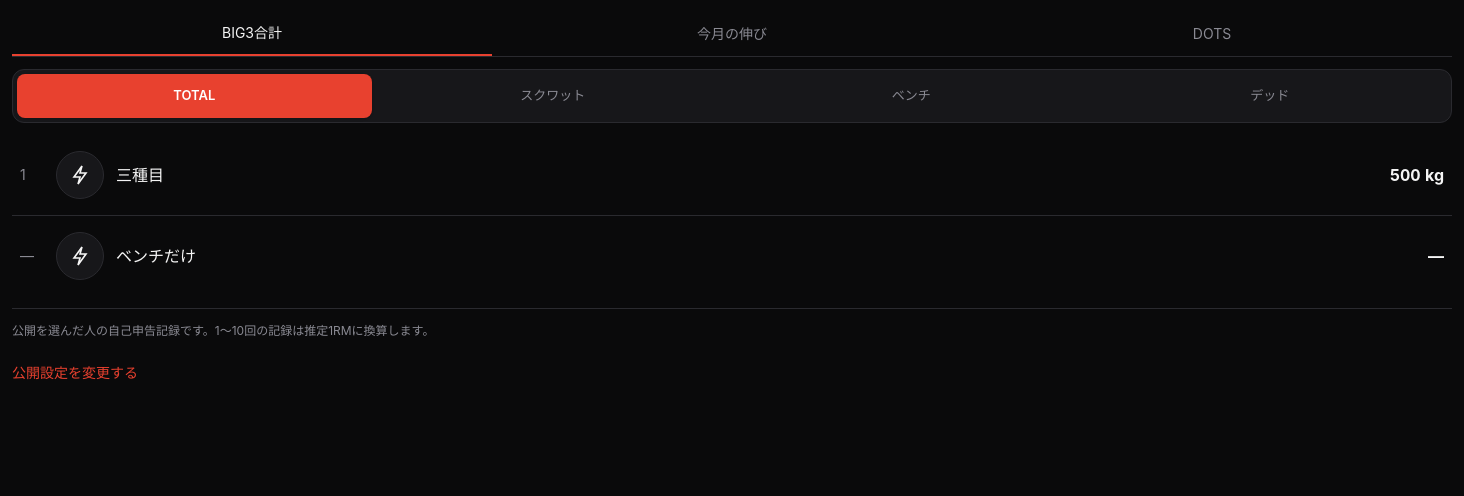
Test: ranks a single lift under the kg total, including members without all three lifts
Expected: the list is shown, [12, 135, 1452, 296]
Click the button "ベンチ" at (911, 96), box [734, 74, 1088, 118]
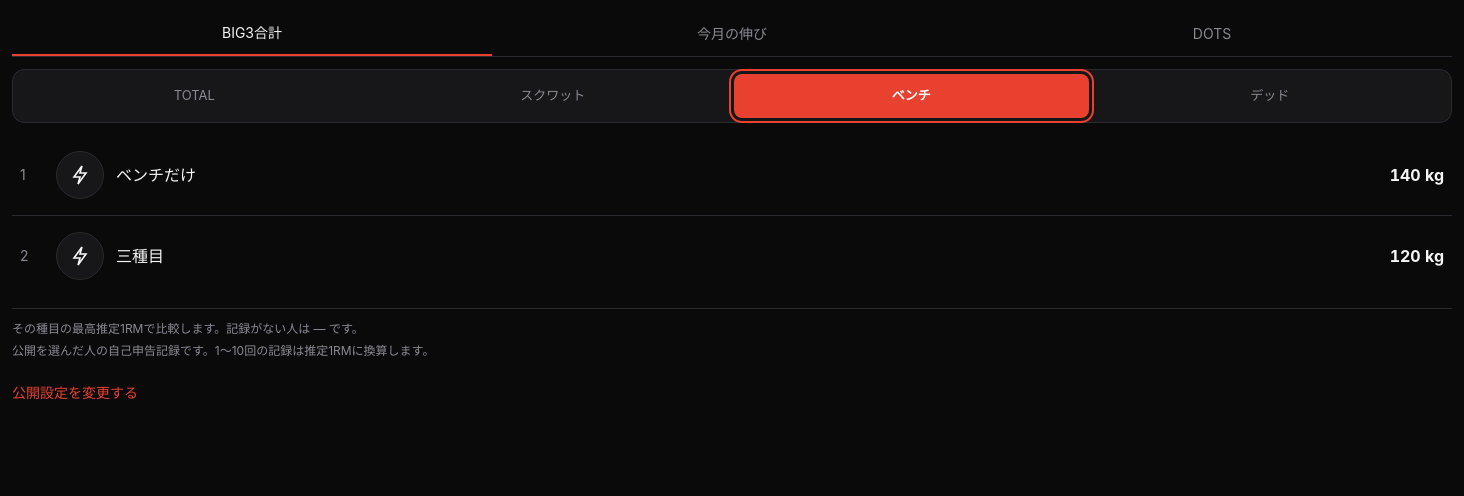
Expected: the list items read "1ベンチだけ140 kg", "2三種目120 kg", in this order, [12, 135, 1452, 216]; [12, 216, 1452, 296]
Click the button "スクワット" at (553, 96), box [376, 74, 730, 118]
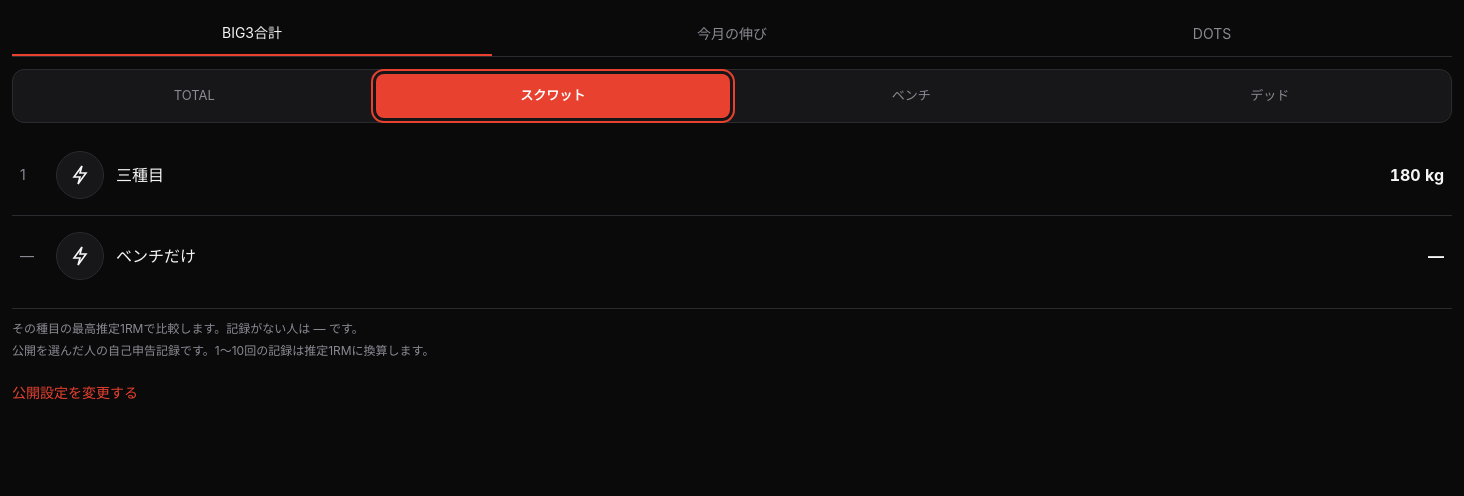
Expected: the list items read "1三種目180 kg", "—ベンチだけ—", in this order, [12, 135, 1452, 216]; [12, 216, 1452, 296]
Click the button "DOTS" at (1212, 34), box [972, 12, 1452, 56]
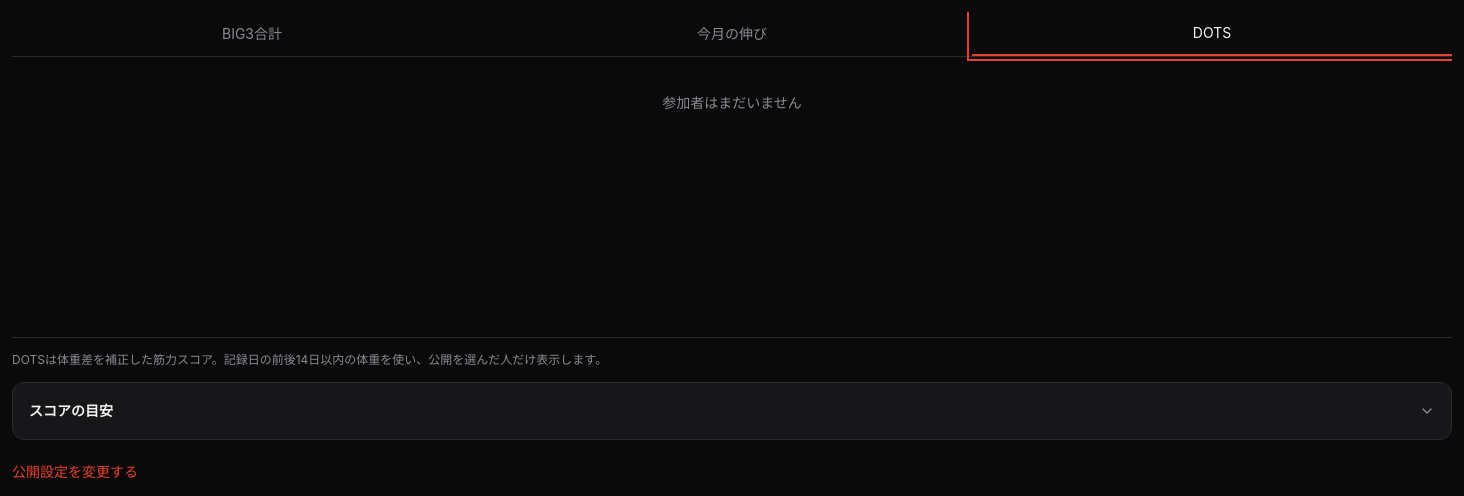
Expected: the button "種目" is gone
